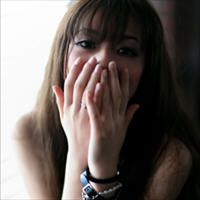face: (63, 5, 145, 117)
